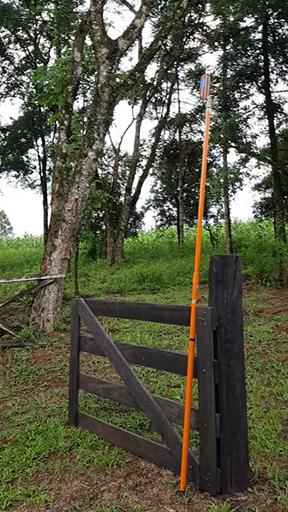Detector_Tensao_Contato: (199, 66, 212, 102)
Vara_Manobra: (179, 101, 212, 492)
